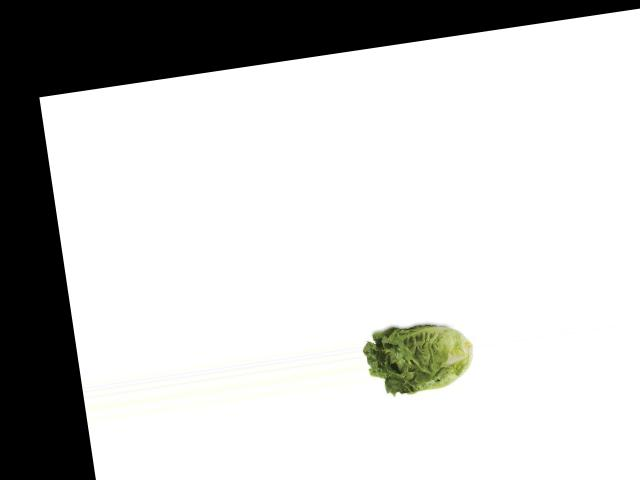lettuce: (362, 311, 479, 405)
